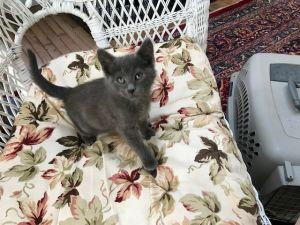rblue: (95, 39, 162, 106)
